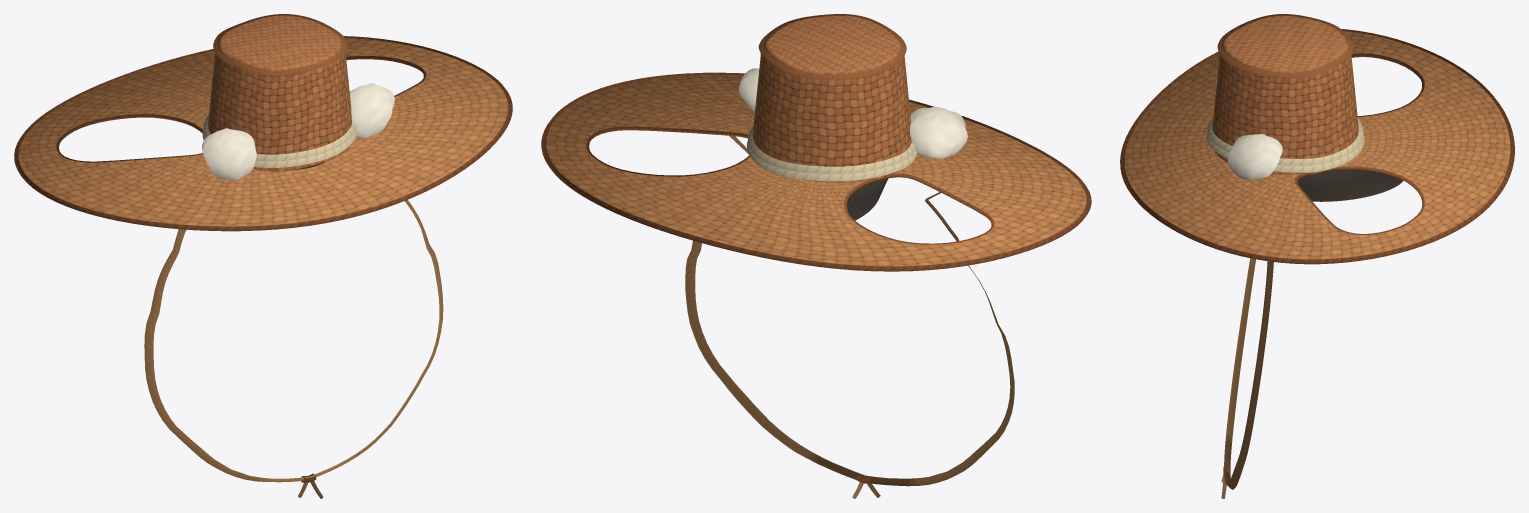
File: wear-hat-peddler-straw.glb
3 renders of one model, left to right at view 1: azimuth 30°, elevation 25°; view 2: azimuth 150°, elevation 25°; view 3: azimuth 270°, elevation 25°, orthographic. The views are drawn at different scales.
Parts seen in each view (by area): view 1: wear-hat-peddler-straw; view 2: wear-hat-peddler-straw; view 3: wear-hat-peddler-straw.
Part boxes in pixels (<box>): wear-hat-peddler-straw: <box>14,14,512,498</box>; wear-hat-peddler-straw: <box>541,14,1091,498</box>; wear-hat-peddler-straw: <box>1120,14,1514,498</box>.
Size of the model in its own units: 0.814 by 0.7431 by 0.586.
1 material, 1 textured.
